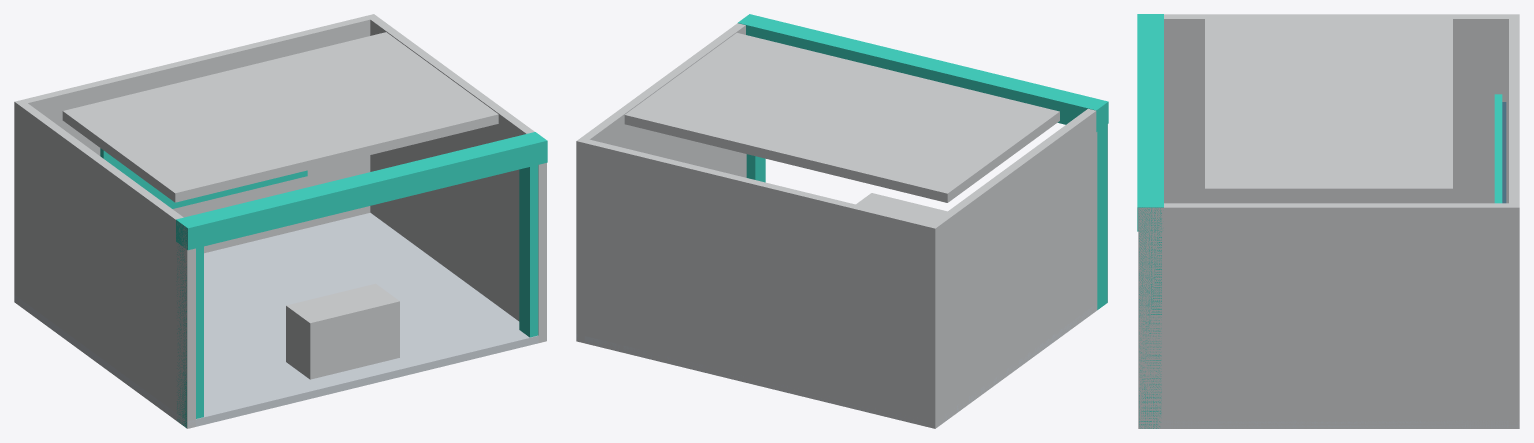
The picture shows the model from 3 angles, left to right: view 1: azimuth 30°, elevation 25°; view 2: azimuth 150°, elevation 25°; view 3: azimuth 270°, elevation 25°; orthographic projection. The views are drawn at different scales.
Parts seen in each view (by area): view 1: Exhibition Booth Concept; view 2: Exhibition Booth Concept; view 3: Exhibition Booth Concept.
Part boxes in pixels (x1,y1,x2,y2): Exhibition Booth Concept: [14, 14, 547, 428]; Exhibition Booth Concept: [576, 14, 1108, 428]; Exhibition Booth Concept: [1137, 14, 1519, 428].
Size of the model in its own units: 6 by 3.34 by 5.02.
